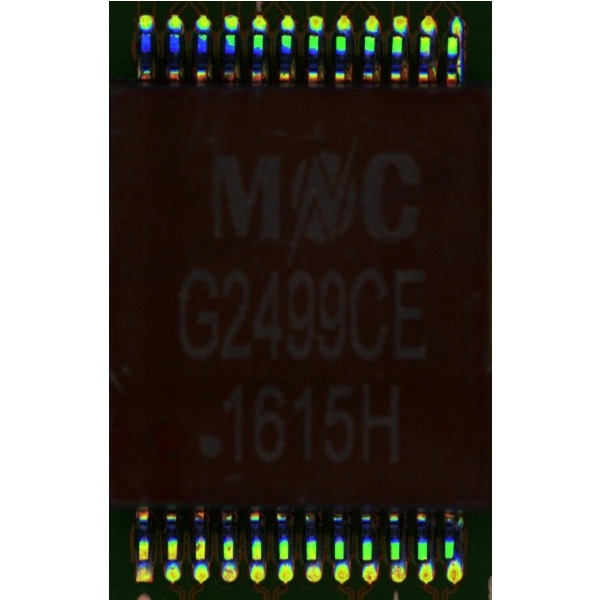Bad_qiaojiao: (457, 40, 462, 81)
